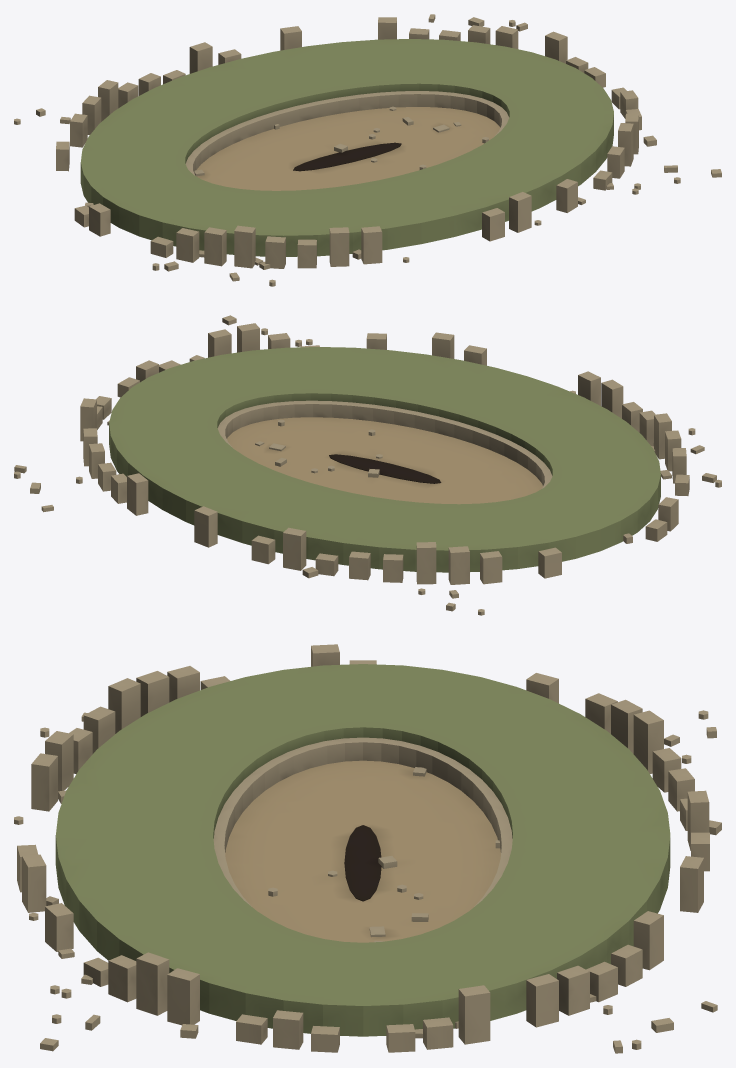
Rendered from amphitheatre-ruin.glb.
3 renders of one model, top to bottom at view 1: azimuth 30°, elevation 25°; view 2: azimuth 150°, elevation 25°; view 3: azimuth 270°, elevation 25°, orthographic. The views are drawn at different scales.
Visible parts, largest first — view 1: p1_mound, p0_arena, p2_ruins; view 2: p1_mound, p0_arena, p2_ruins; view 3: p1_mound, p0_arena, p2_ruins.
Part boxes in pixels (bbox=[...]): p1_mound: bbox=[56, 17, 641, 268]; p0_arena: bbox=[185, 91, 509, 190]; p2_ruins: bbox=[14, 14, 721, 286]; p1_mound: bbox=[80, 323, 689, 584]; p0_arena: bbox=[217, 400, 552, 504]; p2_ruins: bbox=[14, 315, 721, 615]; p1_mound: bbox=[17, 644, 709, 1052]; p0_arena: bbox=[213, 737, 512, 942]; p2_ruins: bbox=[14, 710, 721, 1053].
Size of the model in its own units: 119 by 7.48 by 94.45.
